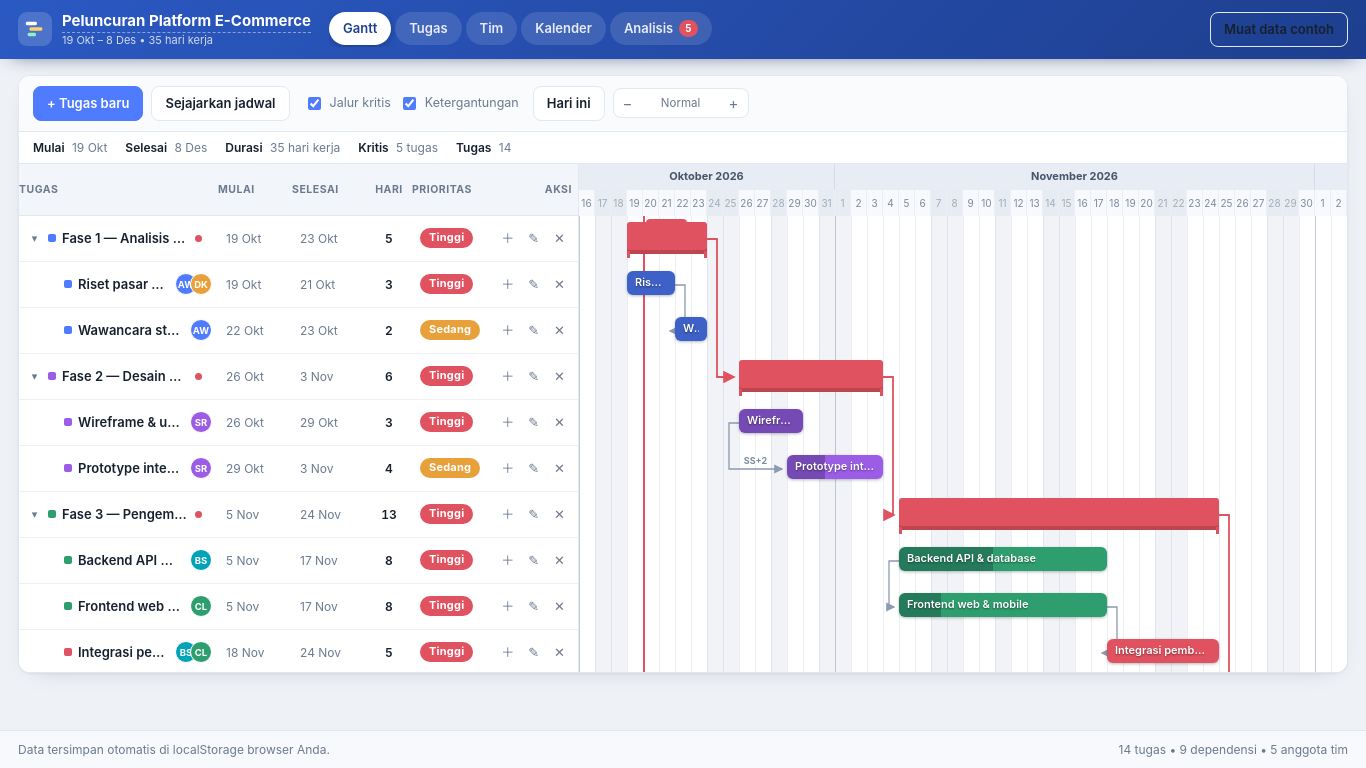
Test: Aplikasi utama › mengubah pengaturan akhir pekan pada tab Kalender
The width and height of the screenshot is (1366, 768).
Click the button "Kalender". click: click(564, 28)
box: [521,12,606,45]
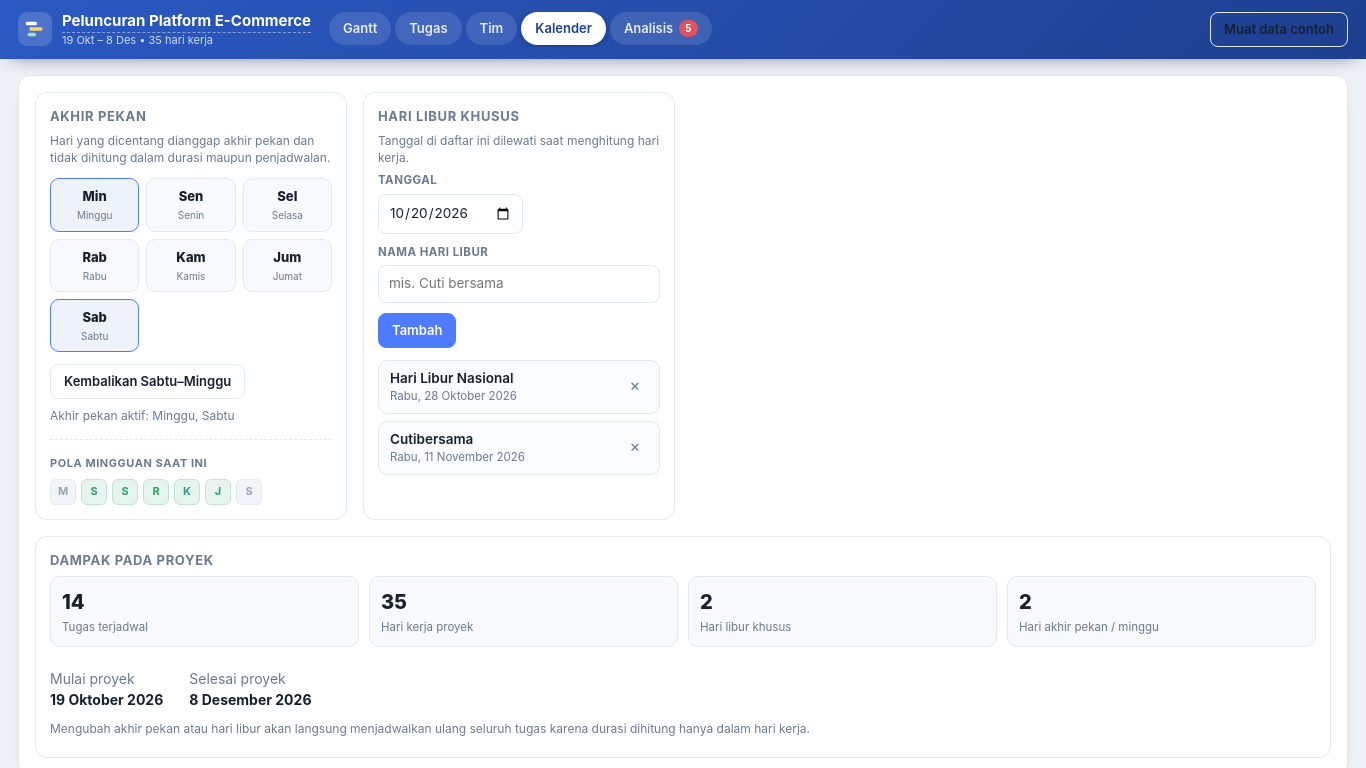
Result: the checkbox labelled "Jum Jumat" is not checked
Click the checkbox labelled "Jum Jumat". click: click(287, 265)
box: [243,239,332,292]
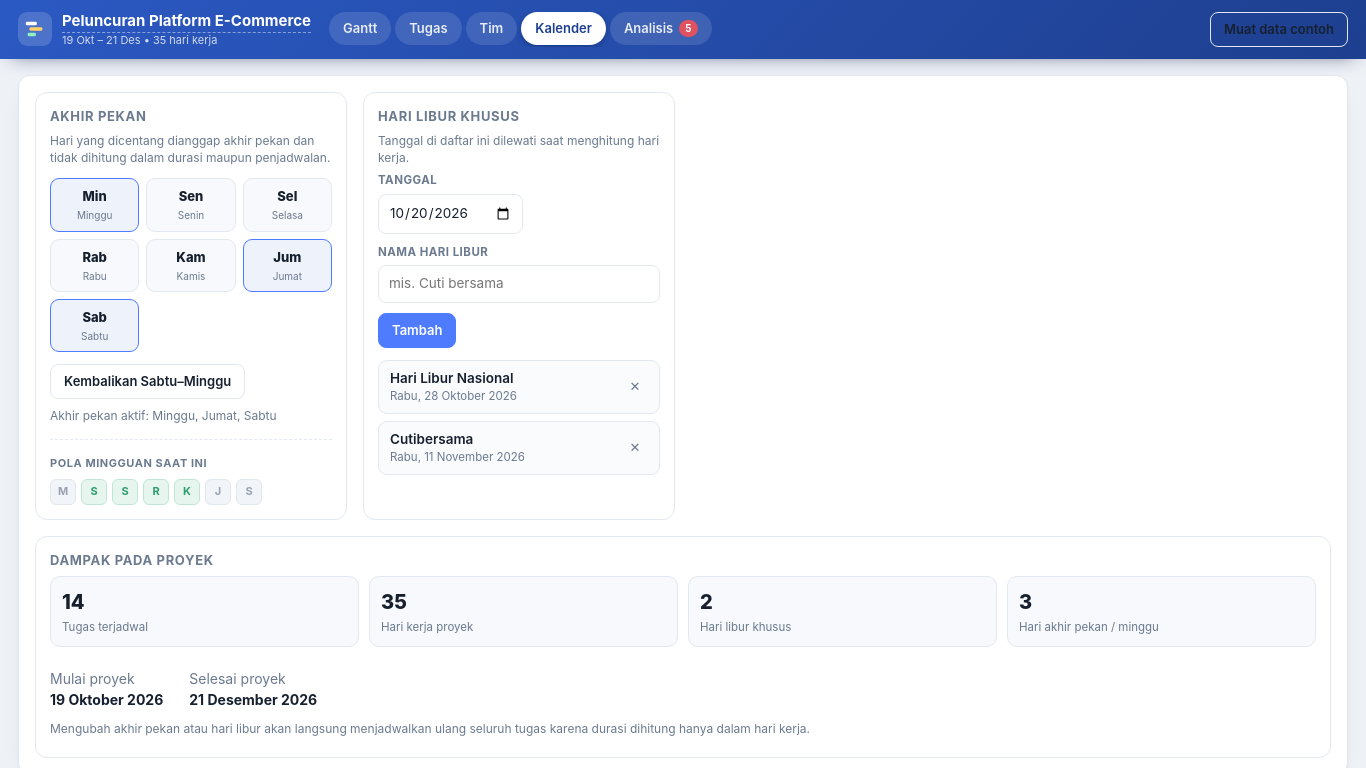
Result: the date field labelled "Tanggal" is shown at [378,194,522,234]
Result: the field labelled "Nama hari libur" is shown at [378,265,660,303]
Result: the text "Akhir pekan aktif: Minggu, Jumat, Sabtu" is shown at [50,408,277,423]
